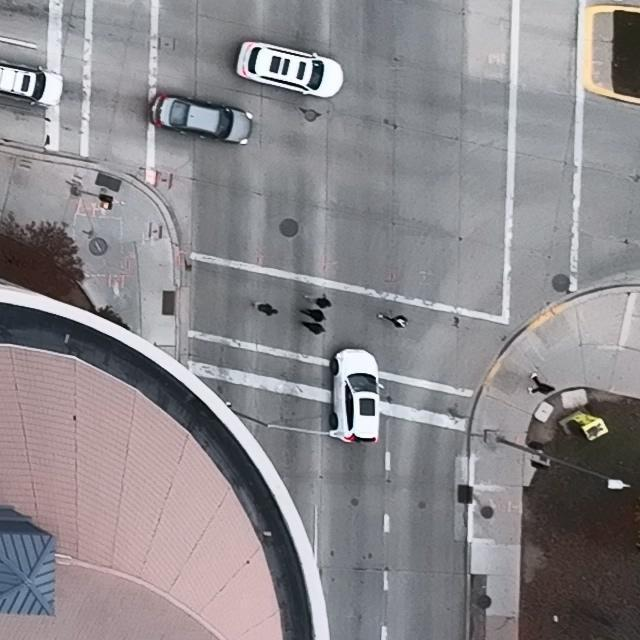car: (236, 41, 343, 99), (150, 93, 254, 145), (329, 347, 385, 443), (0, 62, 64, 108)
